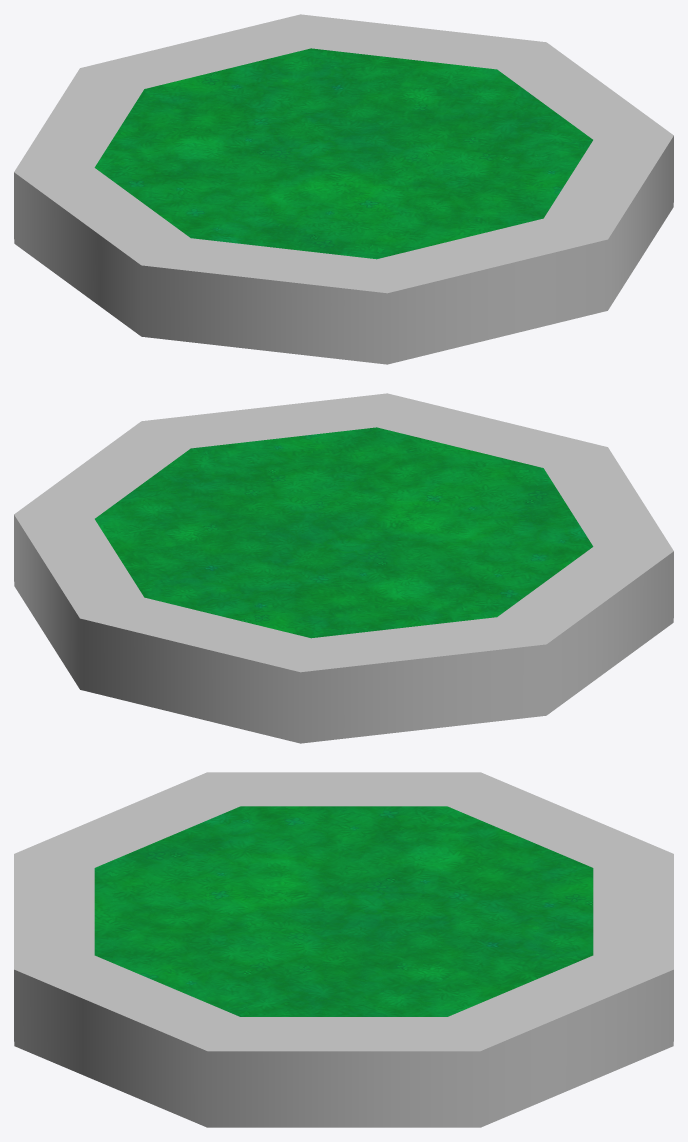
Rendered from Plant06_a01.FBX.
3 views of the same model, one above another, from view 1: azimuth 30°, elevation 25°; view 2: azimuth 150°, elevation 25°; view 3: azimuth 270°, elevation 25° (orthographic). The views are drawn at different scales.
Parts seen in each view (by area): view 1: Plant06_a01; view 2: Plant06_a01; view 3: Plant06_a01.
Part boxes in pixels (x1,y1,x2,y2): Plant06_a01: (14,14,673,364); Plant06_a01: (14,393,673,743); Plant06_a01: (14,772,673,1127).
Size of the model in its own units: 209 by 26.79 by 209.
